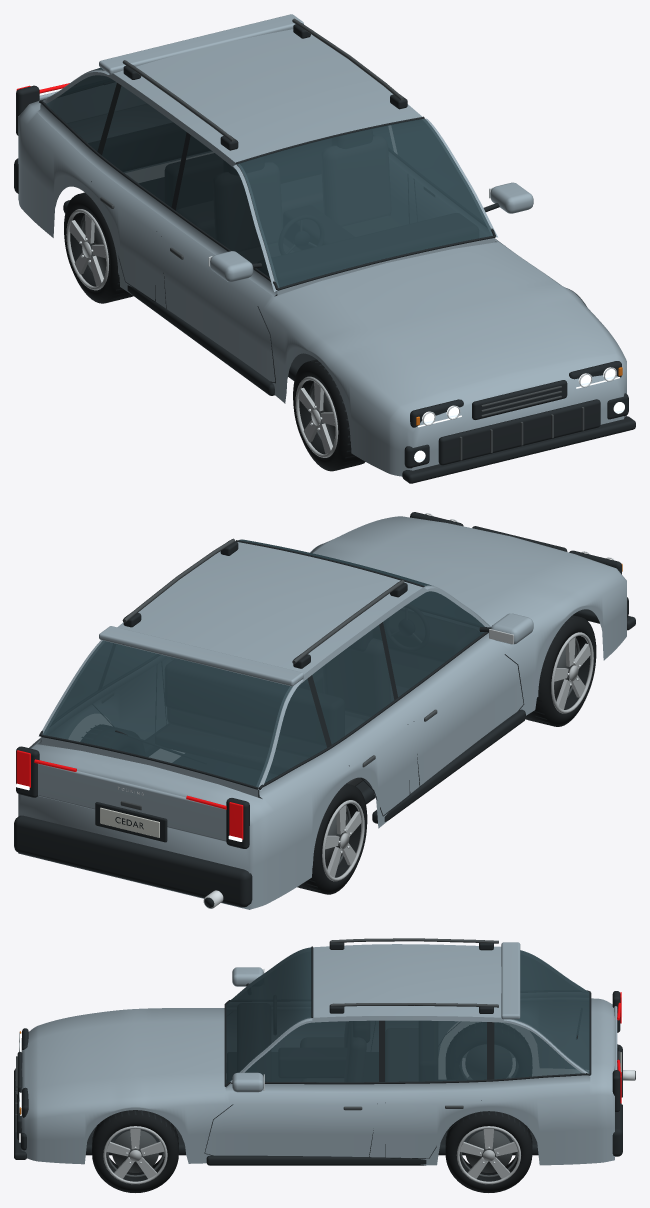
The model's file is support_wagon.glb.
3 views of the same model, one above another, from view 1: azimuth 30°, elevation 25°; view 2: azimuth 150°, elevation 25°; view 3: azimuth 270°, elevation 25° (orthographic). The views are drawn at different scales.
Visible parts, largest first — view 1: SupportWagonBodyStatic, SupportWagonGlassPanels, SupportWagonInteriorAssembly, WagonWheelFrontLGeometry, WagonWheelRearLGeometry; view 2: SupportWagonBodyStatic, SupportWagonGlassPanels, SupportWagonInteriorAssembly, WagonWheelFrontLGeometry, WagonWheelRearLGeometry, WagonWheelRearRGeometry; view 3: SupportWagonBodyStatic, SupportWagonGlassPanels, SupportWagonInteriorAssembly, WagonWheelFrontRGeometry, WagonWheelRearRGeometry, WagonWheelRearLGeometry.
Boxes of the visible parts, bbox=[...] form: SupportWagonBodyStatic: bbox=[14, 14, 635, 483]; SupportWagonGlassPanels: bbox=[46, 67, 492, 287]; SupportWagonInteriorAssembly: bbox=[165, 130, 478, 296]; WagonWheelFrontLGeometry: bbox=[293, 359, 365, 471]; WagonWheelRearLGeometry: bbox=[64, 192, 133, 303]; SupportWagonBodyStatic: bbox=[14, 512, 635, 909]; SupportWagonGlassPanels: bbox=[42, 539, 484, 787]; SupportWagonInteriorAssembly: bbox=[155, 604, 478, 786]; WagonWheelFrontLGeometry: bbox=[525, 615, 596, 726]; WagonWheelRearLGeometry: bbox=[297, 783, 367, 894]; WagonWheelRearRGeometry: bbox=[81, 725, 144, 755]; SupportWagonBodyStatic: bbox=[14, 938, 635, 1165]; SupportWagonGlassPanels: bbox=[226, 947, 589, 1083]; SupportWagonInteriorAssembly: bbox=[227, 995, 437, 1082]; WagonWheelFrontRGeometry: bbox=[92, 1110, 178, 1192]; WagonWheelRearRGeometry: bbox=[445, 1111, 532, 1192]; WagonWheelRearLGeometry: bbox=[446, 1022, 531, 1078].
Bounding box in the file's own units: 2.22 × 1.57 × 5.03.
